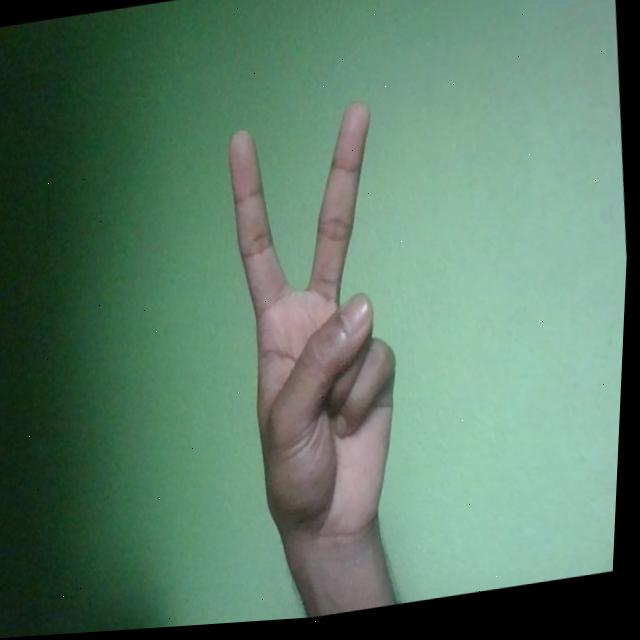Peace: (214, 96, 426, 574)
